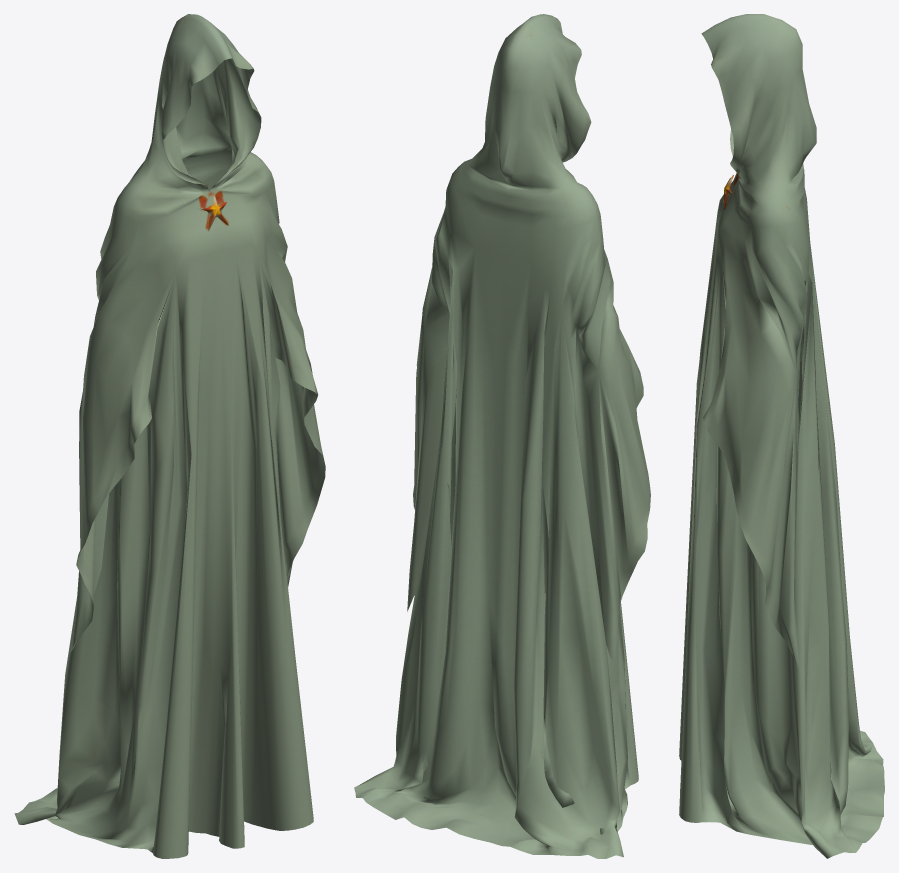
File: starfall-cloak_refine.glb
3 views of the same model, side by side, from view 1: azimuth 30°, elevation 25°; view 2: azimuth 150°, elevation 25°; view 3: azimuth 270°, elevation 25° (orthographic). The views are drawn at different scales.
Bounding box in the file's own units: 0.3452 × 0.9512 × 0.2271.
Materials: 1 (1 with a texture image).
